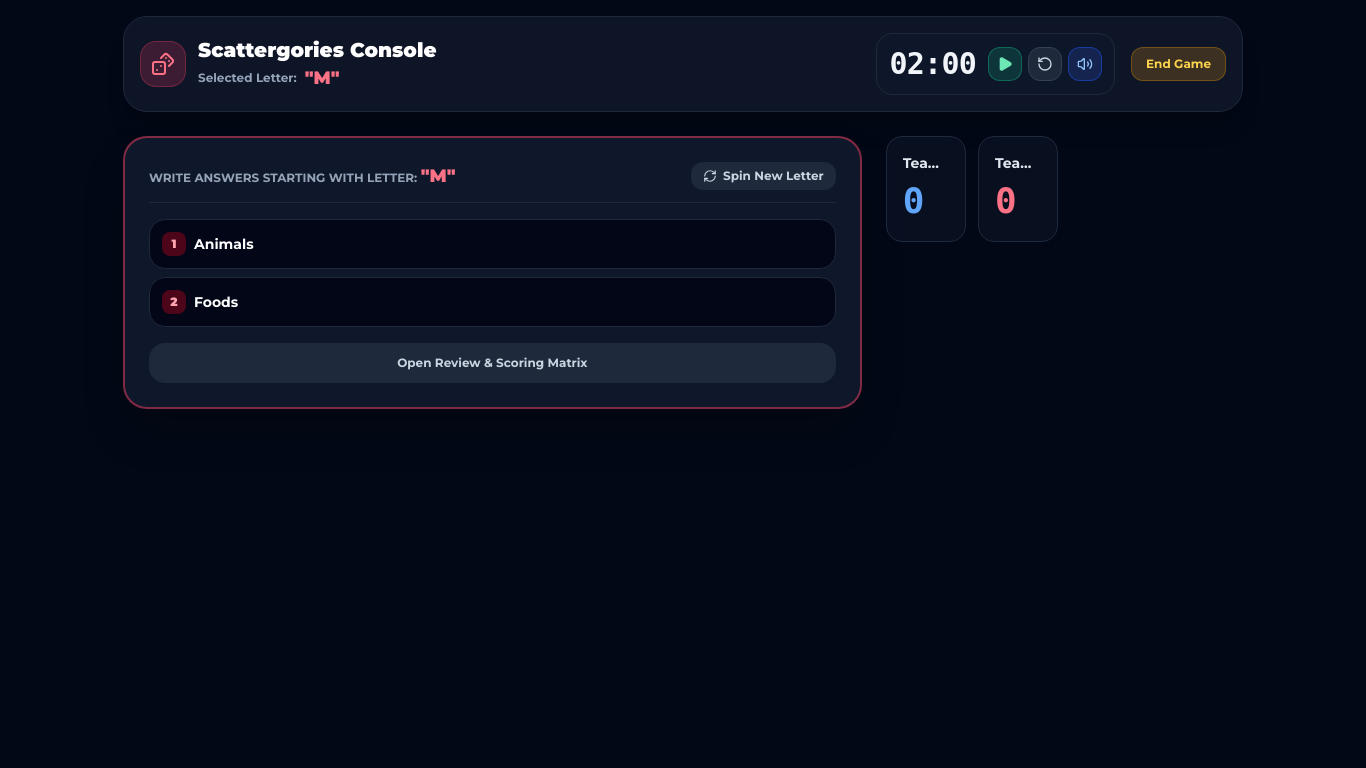
it: Audit Regression Suite: Content Generator & All 15 Hub/Battle Games › 10 Team Battle Games Gameplay & Sync Fixes › ScattergoriesHostView does not play whistle on initial mount and locks round score button
Expected: the text "Animals" is shown, [194,234,254,254]
Click the button "Open Review & Scoring Matrix" at point(492, 363), box [149,343,836,383]
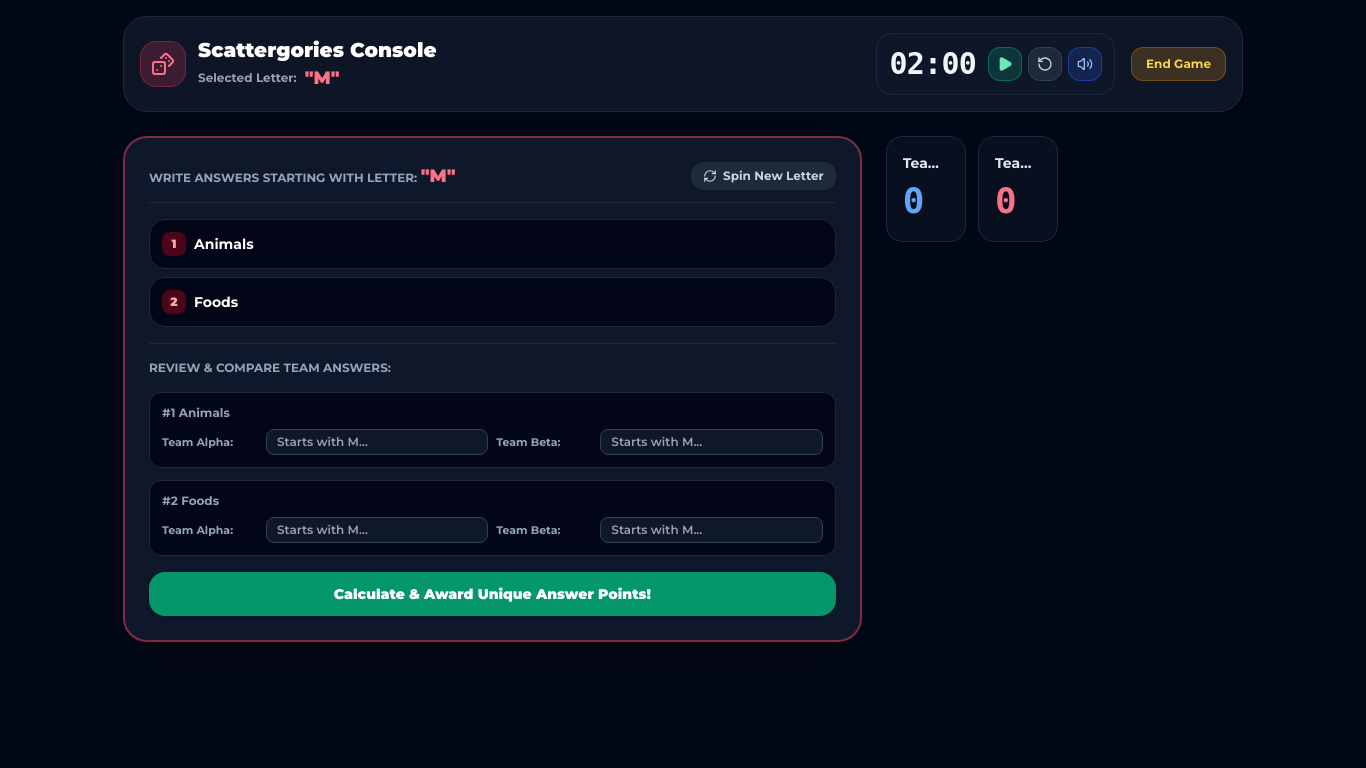
Click the button "Calculate & Award Unique Answer Points!" at point(492, 594), box [149,572,836,616]
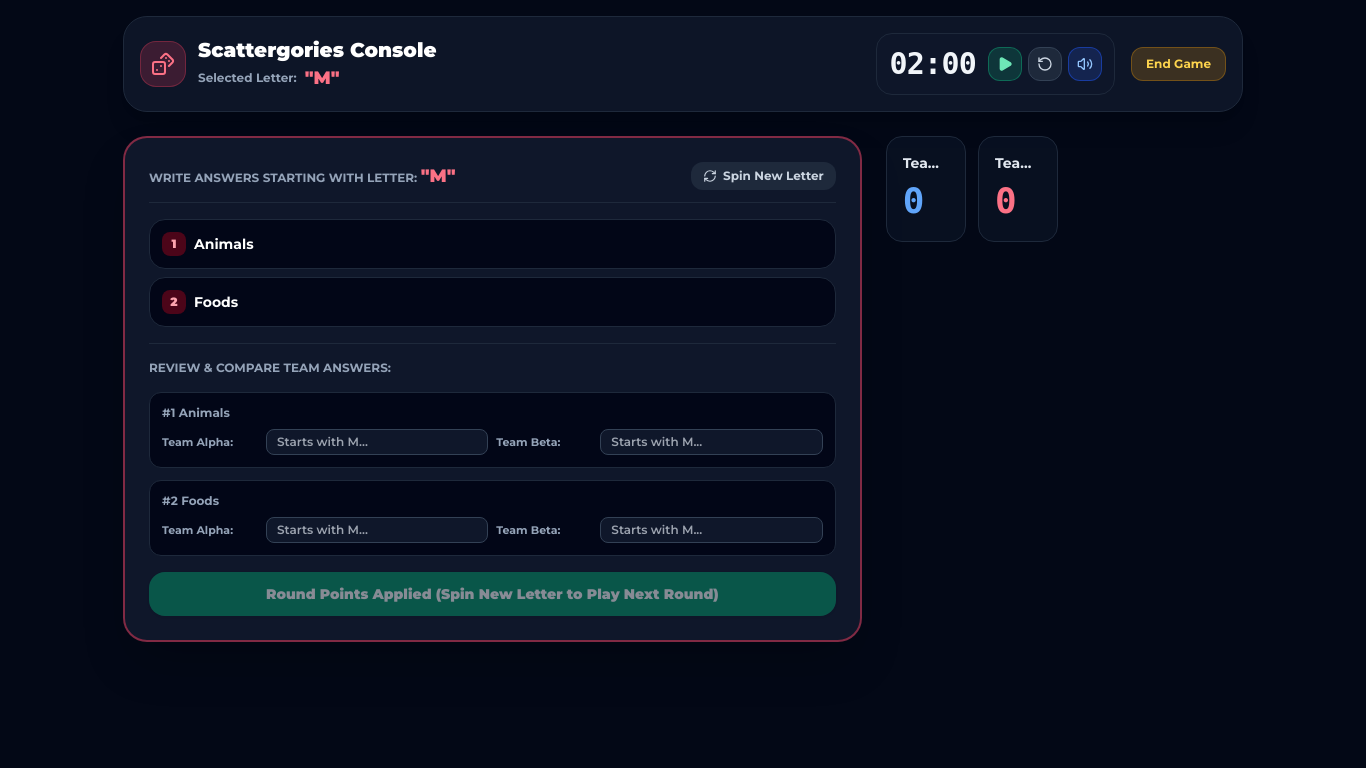
Expected: the button named "Calculate & Award Unique Answer Points!" is disabled, [149,572,836,616]
